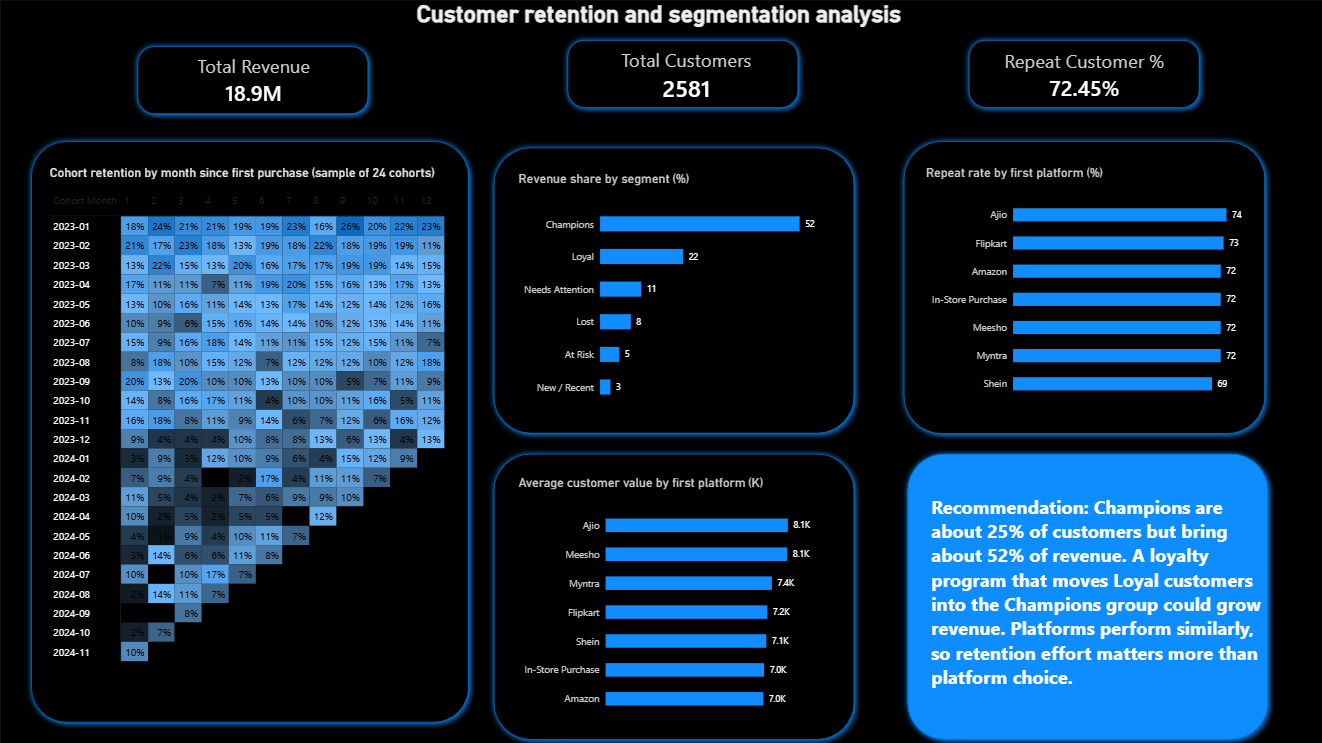

The dashboard page shown, as its layout file describes it:
{"tool":"powerbi","page":{"name":"Page 1","canvas":[1920,1080],"ordinal":0},"visuals":[{"type":"shape","box":[1304,648,540,432],"z":0},{"type":"shape","box":[1299.3,195.4,541.1,441.6],"z":1000},{"type":"shape","box":[706,648,540,432],"z":2000},{"type":"shape","box":[706,204,540,432],"z":3000},{"type":"shape","box":[1394,48,352,116],"z":4000},{"type":"shape","box":[812,48,352,116],"z":5000},{"type":"shape","box":[36.2,195.4,651.5,859.6],"z":6000},{"type":"shape","box":[190,58,352,116],"z":7000},{"type":"cardVisual","fields":{"Data":["shopping_cleaned.Total Customers"]},"box":[868,66,250,88],"z":8000},{"type":"cardVisual","fields":{"Data":["shopping_cleaned.Total Revenue"]},"box":[224,80,286,74],"z":9000},{"type":"cardVisual","fields":{"Data":["shopping_cleaned.Repeat Customer %"]},"box":[1426,66,288,88],"z":10000},{"type":"pivotTable","title":"Cohort retention by month since first purchase (sample of 24 cohorts)","fields":{"Columns":["cohort_retention.Months Since First"],"Rows":["cohort_retention.Cohort Month"],"Values":["Sum(cohort_retention.Retention)"]},"box":[56.1,224.4,606.2,783.6],"z":11000},{"type":"barChart","title":"Revenue share by segment (%)","fields":{"Category":["segment_summary.Segment"],"Y":["Sum(segment_summary.Share of Revenue %)"]},"box":[734,234,484,374],"z":12000},{"type":"clusteredBarChart","title":" Repeat rate by first platform (%)","fields":{"Category":["platform_comparison.First Platform"],"Y":["Sum(platform_comparison.Repeat_Rate)"]},"box":[1324.7,224.4,492,374],"z":13000},{"type":"clusteredBarChart","title":"Average customer value by first platform (K)","fields":{"Category":["platform_comparison.First Platform"],"Y":["Sum(platform_comparison.Avg_Customer_Value)"]},"box":[734,674,484,382],"z":14000},{"type":"textbox","box":[1348,714,492,342],"z":15000},{"type":"textbox","box":[432,0,872,42],"z":16000}]}

Visuals, with their boxes in screenshot pixels (x1, y1, x2, y2), scaled from the page's 1920x1080 canvas onto the 1322x743 screenshot:
shape: select_region(898, 446, 1270, 742)
shape: select_region(895, 134, 1267, 438)
shape: select_region(486, 446, 858, 742)
shape: select_region(486, 140, 858, 438)
shape: select_region(960, 33, 1202, 113)
shape: select_region(559, 33, 801, 113)
shape: select_region(25, 134, 474, 726)
shape: select_region(131, 40, 373, 120)
cardVisual - shopping_cleaned.Total Customers: select_region(598, 45, 770, 106)
cardVisual - shopping_cleaned.Total Revenue: select_region(154, 55, 351, 106)
cardVisual - shopping_cleaned.Repeat Customer %: select_region(982, 45, 1180, 106)
"Cohort retention by month since first purchase (sample of 24 cohorts)" pivotTable: select_region(39, 154, 456, 693)
"Revenue share by segment (%)" barChart: select_region(505, 161, 839, 418)
" Repeat rate by first platform (%)" clusteredBarChart: select_region(912, 154, 1251, 412)
"Average customer value by first platform (K)" clusteredBarChart: select_region(505, 464, 839, 726)
textbox: select_region(928, 491, 1267, 726)
textbox: select_region(297, 0, 898, 29)
